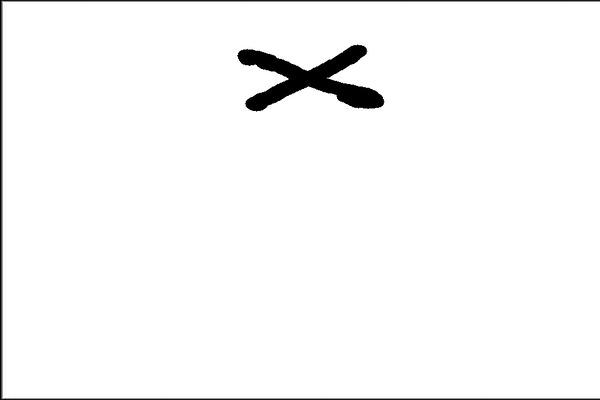X: (216, 30, 389, 136)
